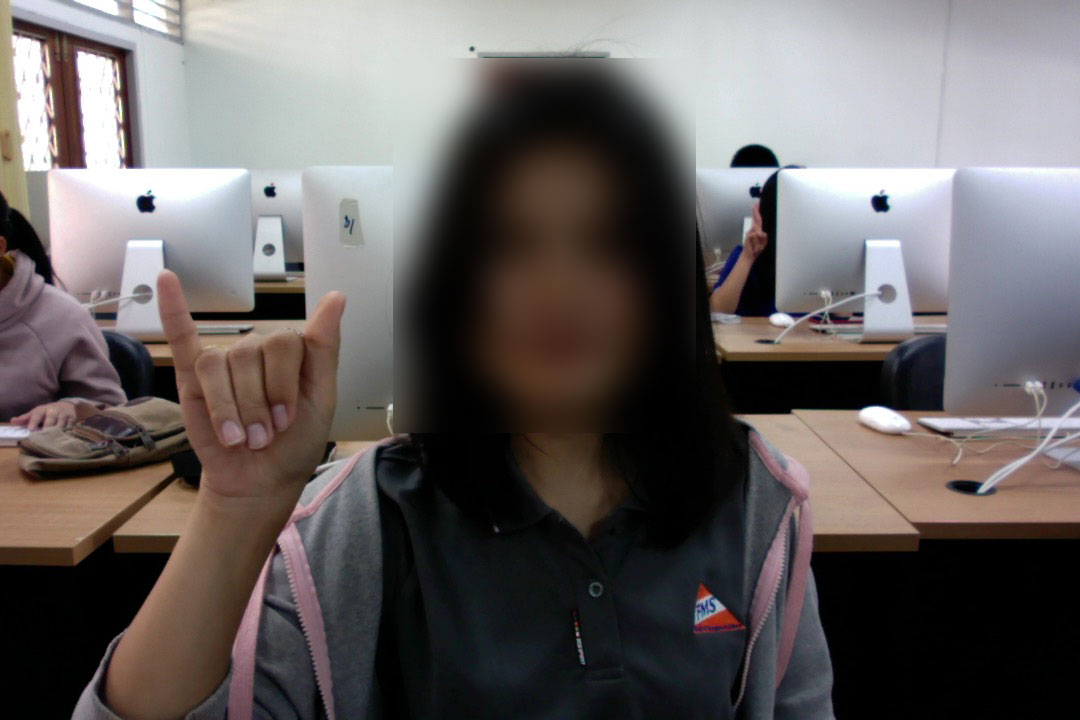yor: (146, 259, 356, 536)
